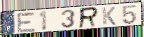1: (38, 10, 48, 32)
3: (60, 9, 76, 29)
5: (122, 4, 138, 25)
E: (16, 12, 38, 34)
K: (102, 7, 118, 26)
R: (78, 6, 100, 30)
